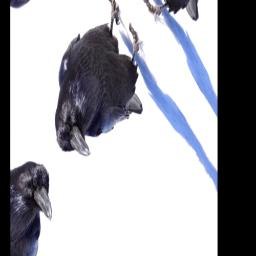Crow: (32, 0, 165, 202)
